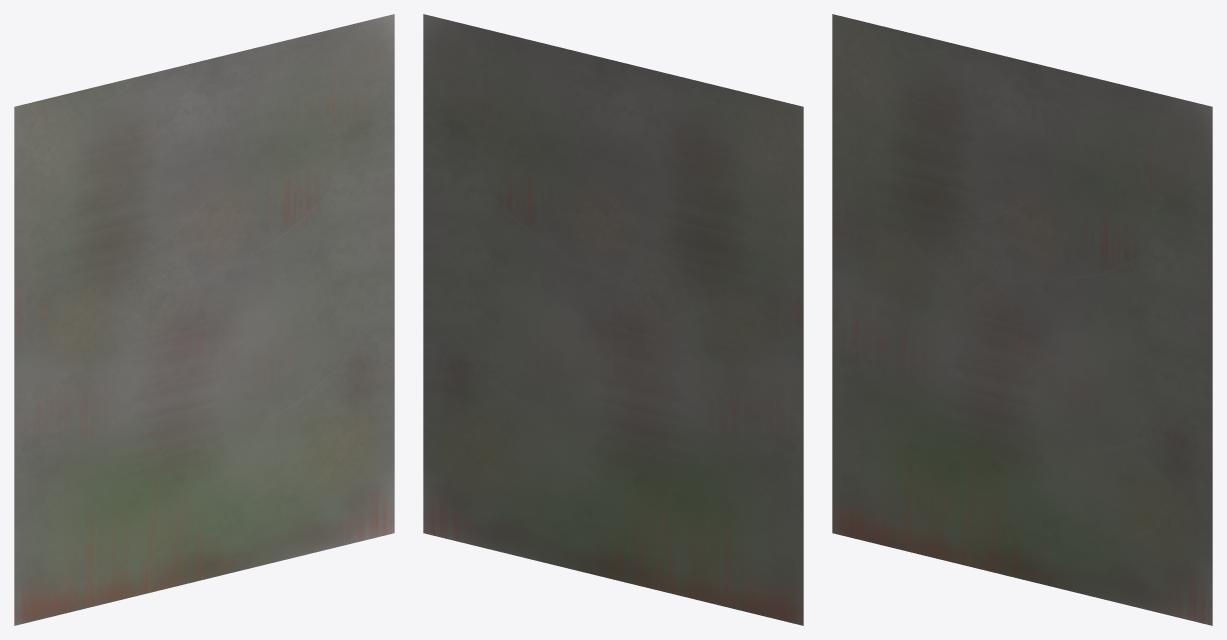
The model's file is Lab wall.fbx.
The picture shows the model from 3 angles, left to right: view 1: azimuth 30°, elevation 25°; view 2: azimuth 150°, elevation 25°; view 3: azimuth 330°, elevation 25°; orthographic projection.
Visible parts, largest first — view 1: wall_base; view 2: wall_base; view 3: wall_base.
Boxes of the visible parts, x1=… form: wall_base: x1=14, y1=14, x2=394, y2=625; wall_base: x1=423, y1=14, x2=803, y2=625; wall_base: x1=832, y1=14, x2=1212, y2=625.
Bounding box in the file's own units: 145 × 0 × 189.
